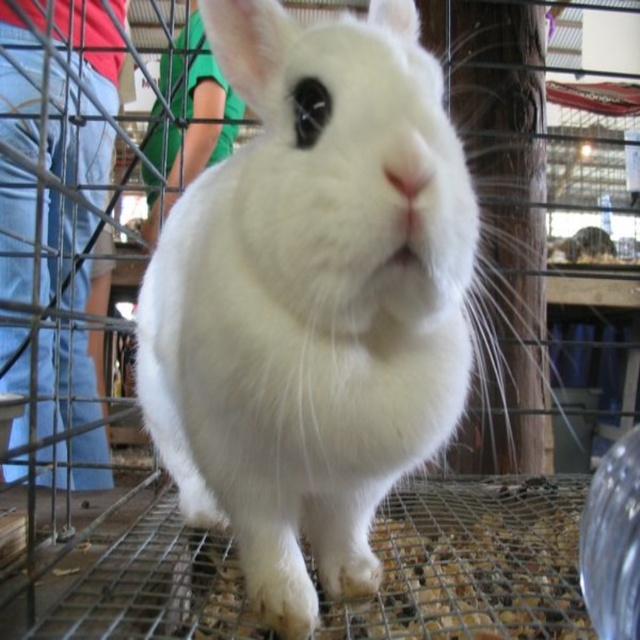Rabbit: (130, 0, 615, 639)
